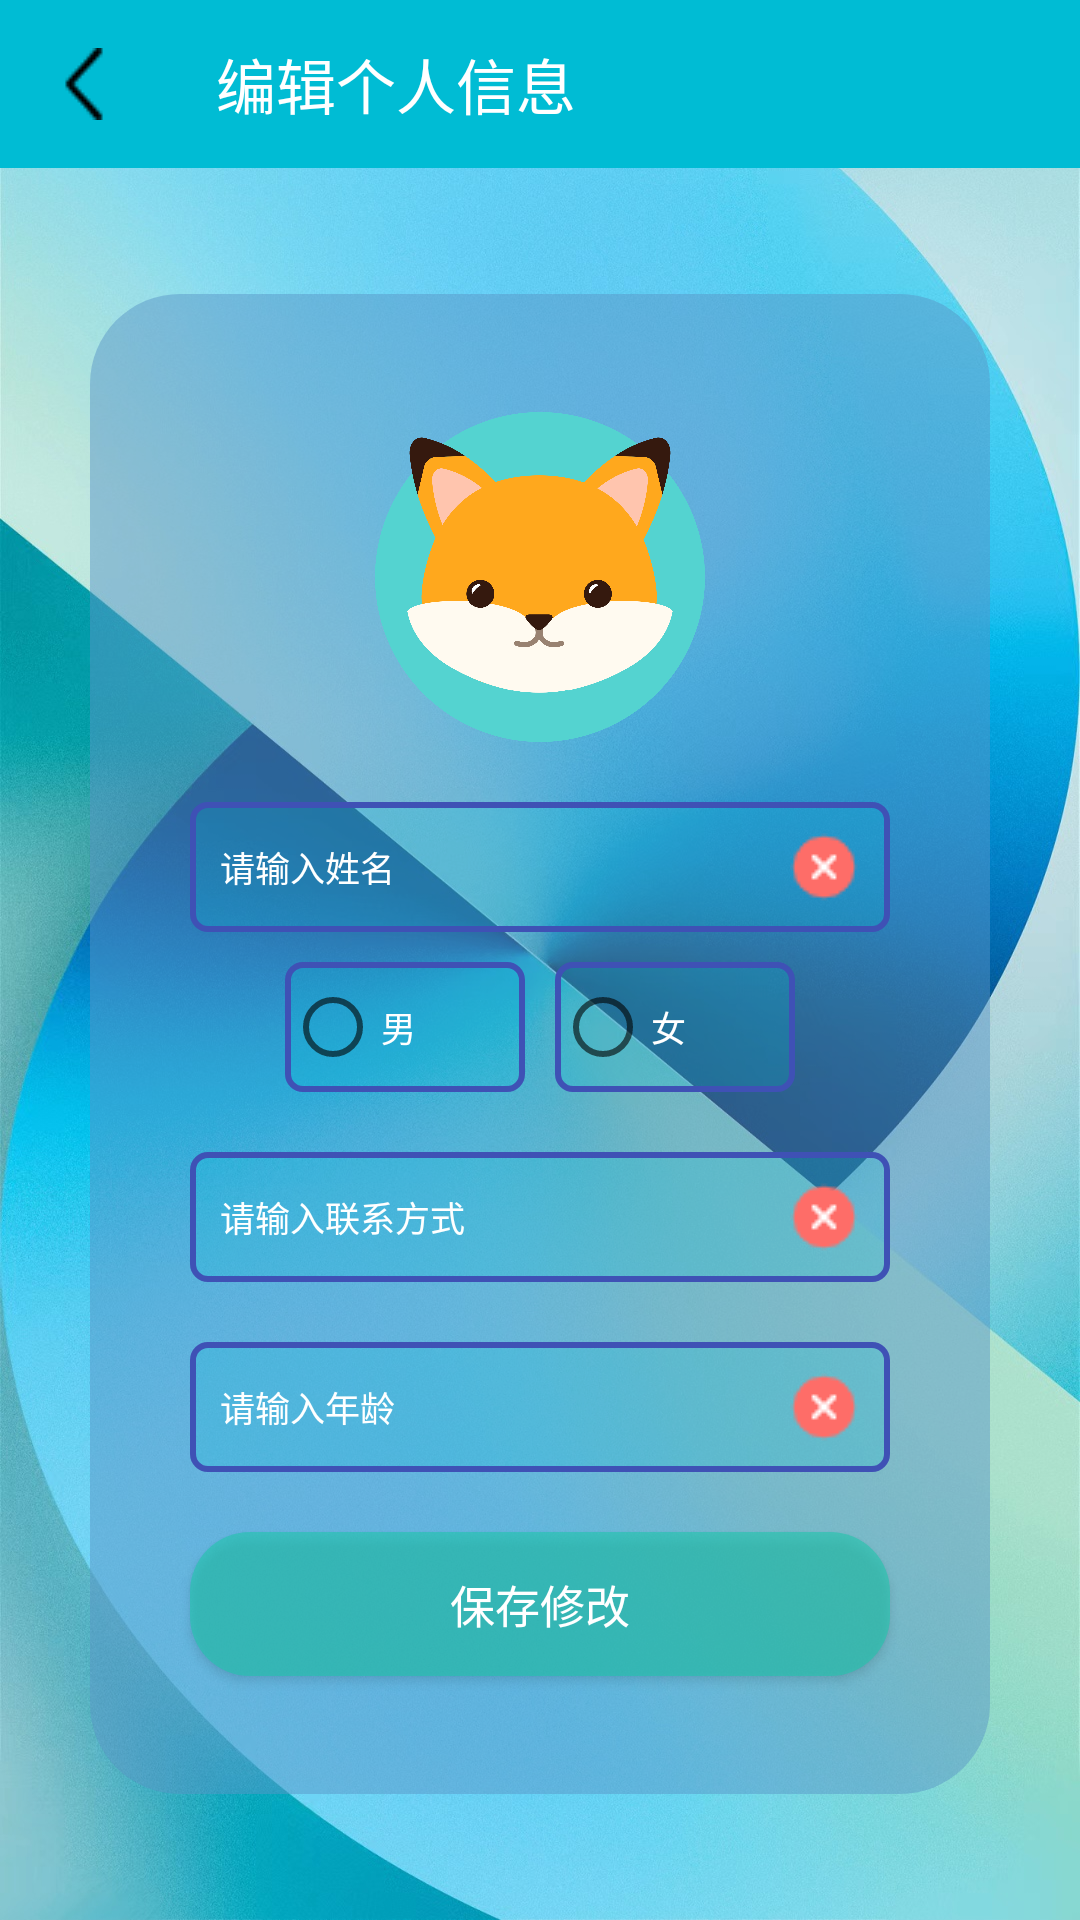

Where to tap for icons on this 1080*1920 app screen, as (x=x, y=y):
info self: (x=540, y=577)
